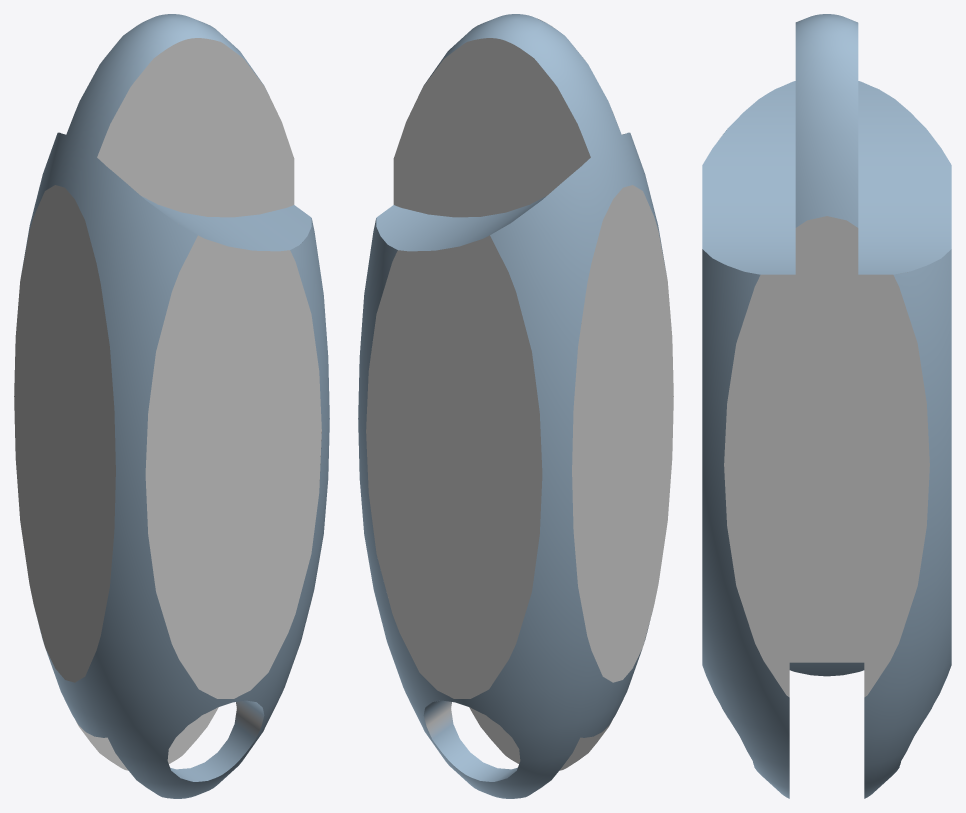
The model's file is phalange8x3.glb.
3 renders of one model, left to right at view 1: azimuth 30°, elevation 25°; view 2: azimuth 150°, elevation 25°; view 3: azimuth 270°, elevation 25°, orthographic.
Bounding box in the file's own units: 0.3 × 1.02 × 0.3.
